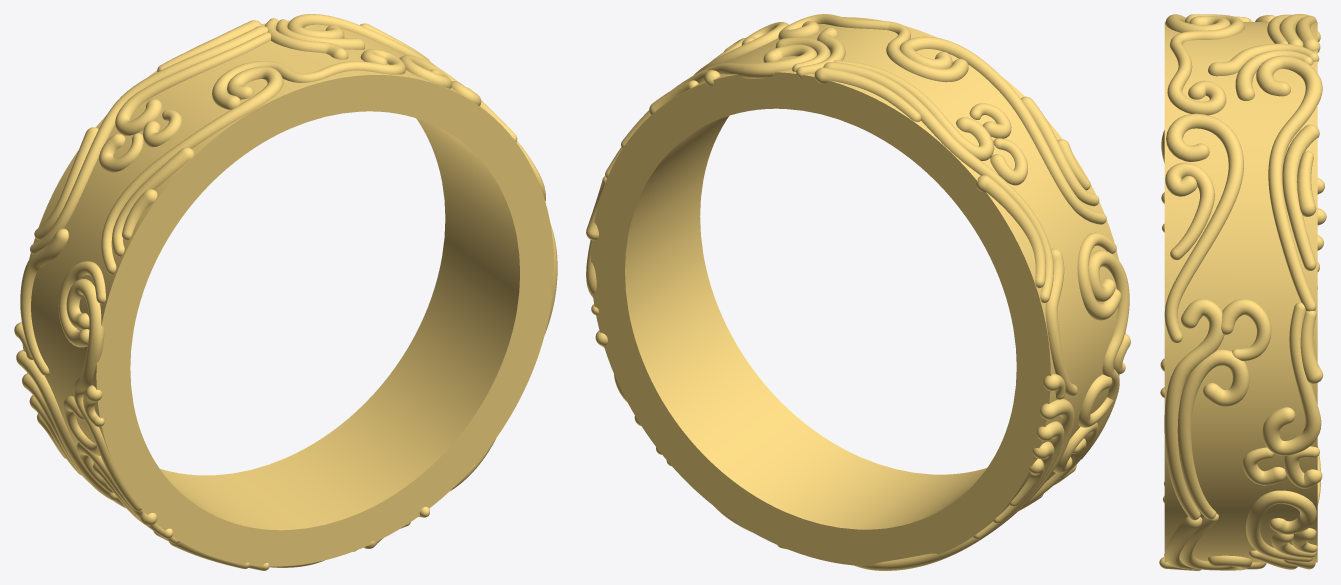
File: DanYGnewWB.glb
3 views of the same model, side by side, from view 1: azimuth 30°, elevation 25°; view 2: azimuth 150°, elevation 25°; view 3: azimuth 270°, elevation 25° (orthographic). The views are drawn at different scales.
Visible parts, largest first — view 1: new Dan YG base for 3d model, new Dan YG pipes for 3d model; view 2: new Dan YG base for 3d model, new Dan YG pipes for 3d model; view 3: new Dan YG pipes for 3d model, new Dan YG base for 3d model.
Boxes of the visible parts, x1,y1,x2,y2 form: new Dan YG base for 3d model: (21, 20, 553, 566); new Dan YG pipes for 3d model: (14, 14, 557, 570); new Dan YG base for 3d model: (591, 17, 1125, 566); new Dan YG pipes for 3d model: (586, 14, 1130, 570); new Dan YG pipes for 3d model: (1159, 14, 1326, 570); new Dan YG base for 3d model: (1164, 22, 1317, 562).
Bounding box in the file's own units: 22.25 × 22.23 × 6.67.
